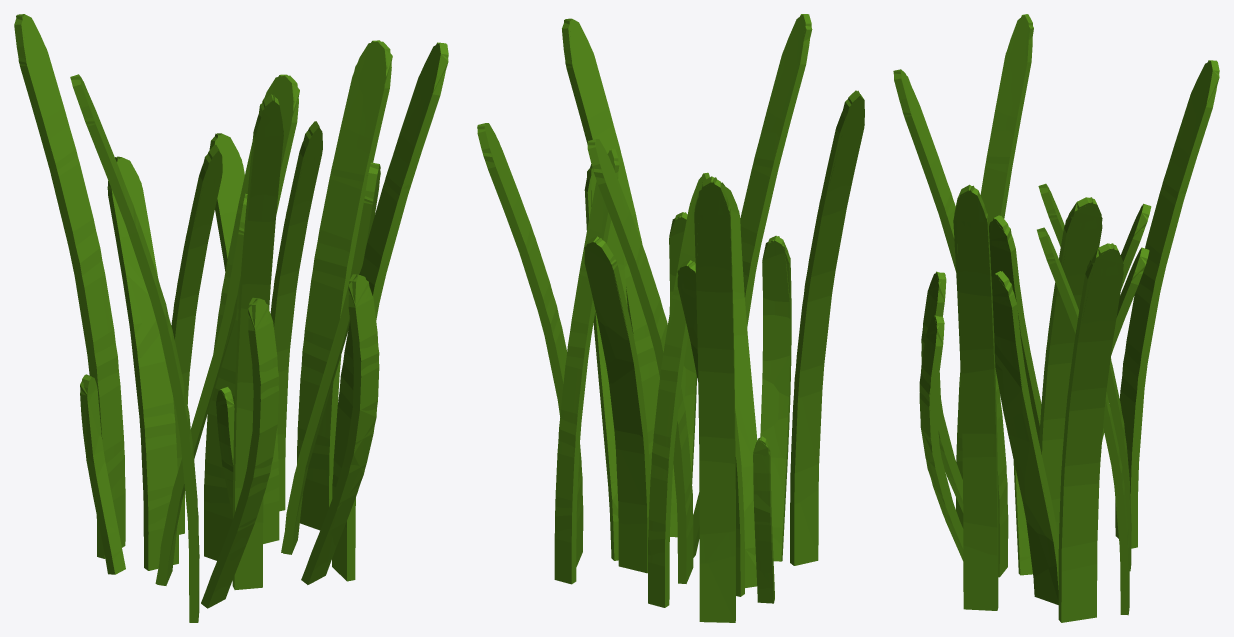
File: grassL.fbx
The picture shows the model from 3 angles, left to right: view 1: azimuth 30°, elevation 25°; view 2: azimuth 150°, elevation 25°; view 3: azimuth 270°, elevation 25°; orthographic projection. The views are drawn at different scales.
Parts seen in each view (by area): view 1: grassL, grassL2, grassL1; view 2: grassL2, grassL, grassL1; view 3: grassL2, grassL, grassL1.
Part boxes in pixels (x1=…): grassL: x1=14, y1=14, x2=448, y2=622; grassL2: x1=16, y1=15, x2=448, y2=621; grassL1: x1=14, y1=14, x2=444, y2=614; grassL2: x1=477, y1=14, x2=864, y2=622; grassL: x1=477, y1=14, x2=864, y2=622; grassL1: x1=477, y1=19, x2=864, y2=607; grassL2: x1=893, y1=14, x2=1219, y2=622; grassL: x1=893, y1=14, x2=1219, y2=622; grassL1: x1=894, y1=21, x2=1216, y2=607.
Size of the model in its own units: 31.45 by 45.02 by 27.26.
